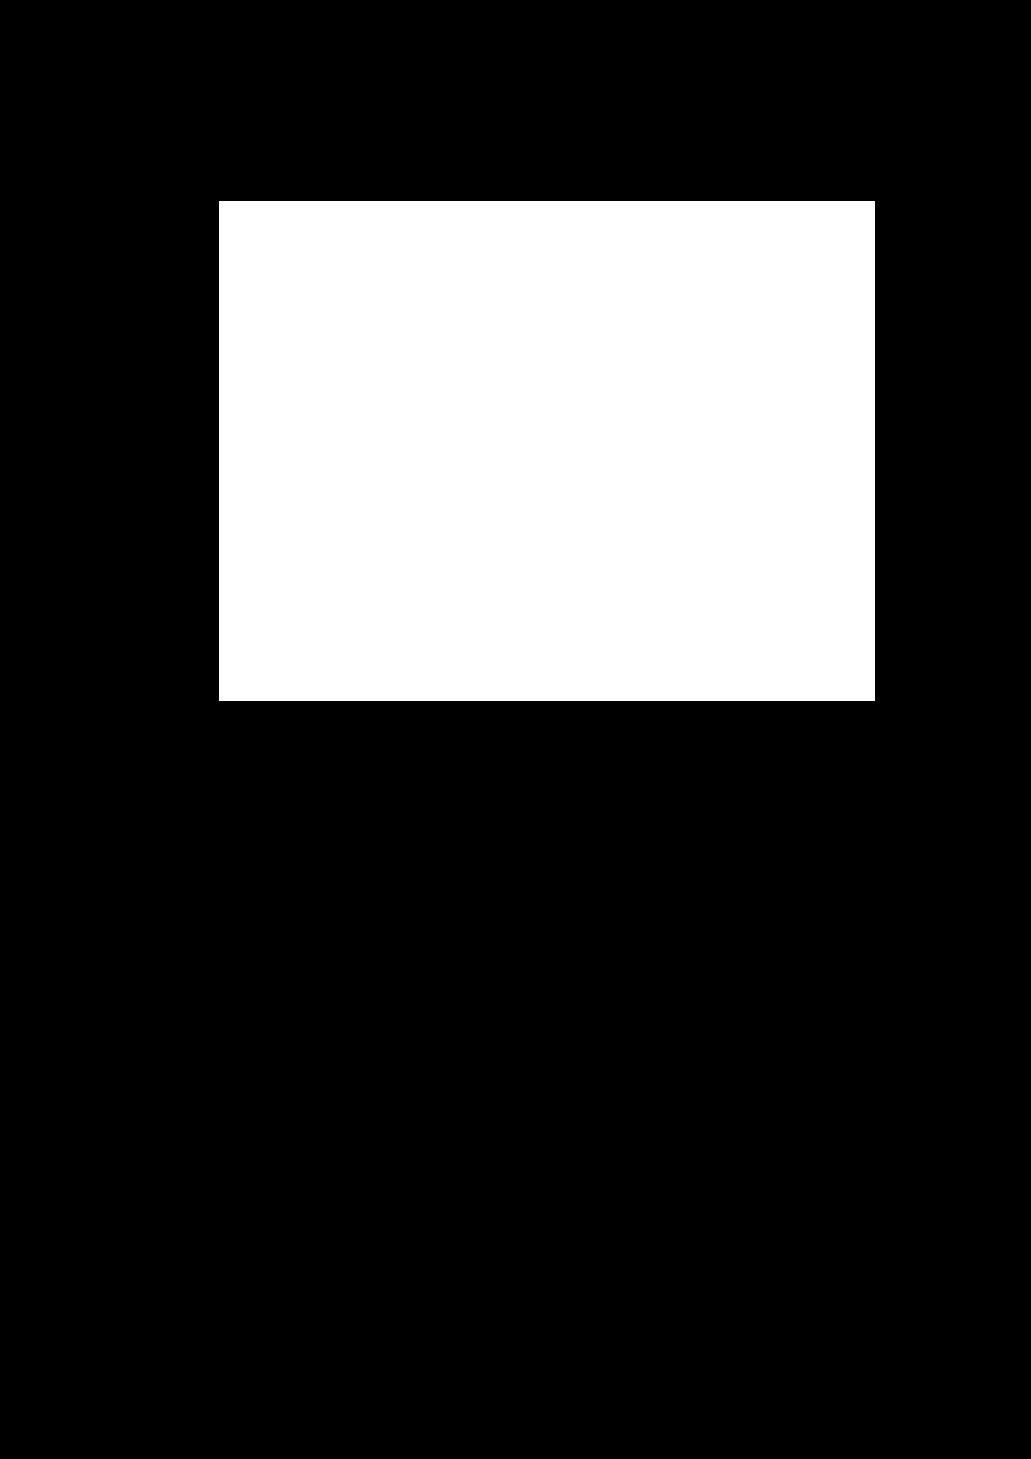table: (219, 201, 874, 700)
